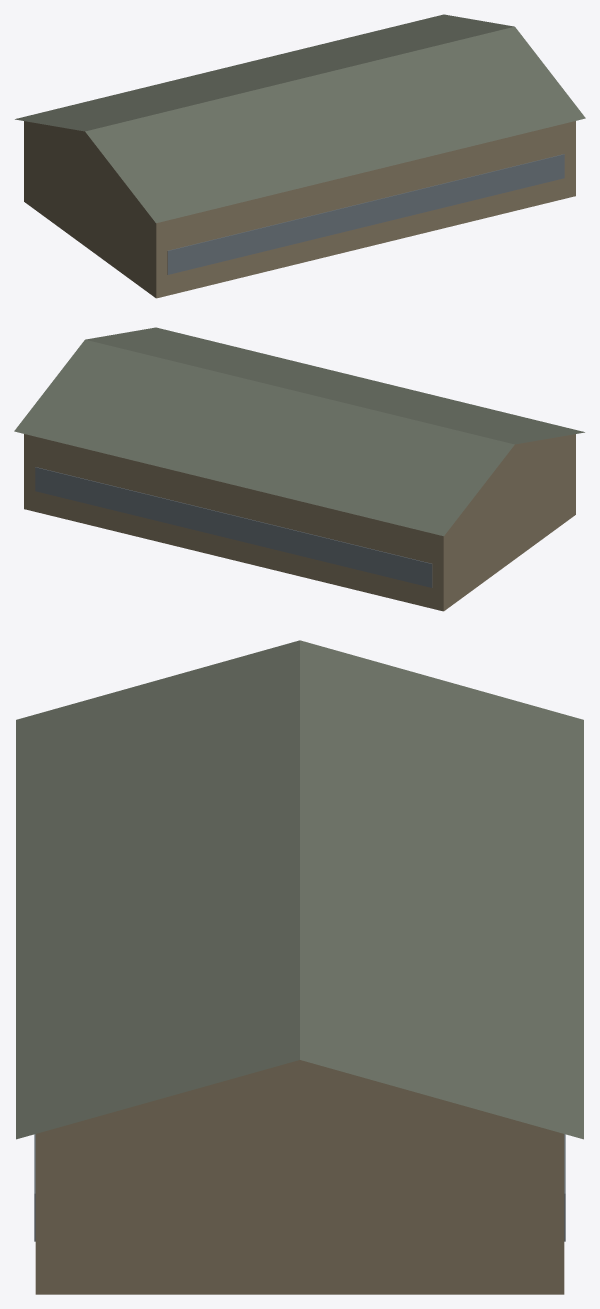
File: mess-hall.tone-v1.lod2.glb
3 renders of one model, top to bottom at view 1: azimuth 30°, elevation 25°; view 2: azimuth 150°, elevation 25°; view 3: azimuth 270°, elevation 25°, orthographic. The views are drawn at different scales.
Parts seen in each view (by area): view 1: mess-hall; view 2: mess-hall; view 3: mess-hall.
Boxes of the visible parts, x1,y1,x2,y2 form: mess-hall: [15, 14, 585, 298]; mess-hall: [14, 327, 584, 611]; mess-hall: [16, 640, 583, 1294].
Size of the model in its own units: 22.54 by 6.01 by 12.9.
